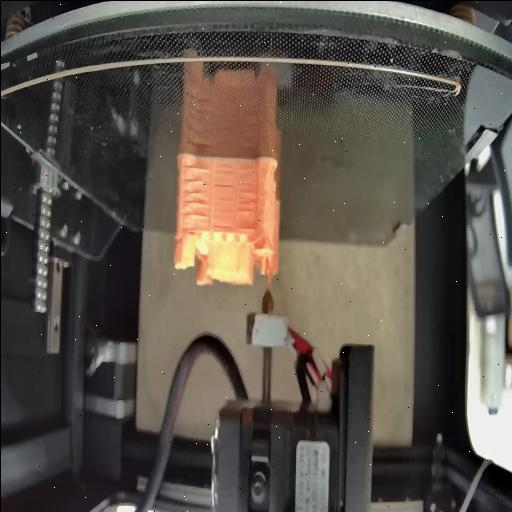cracks: (180, 162, 210, 222), (213, 162, 233, 194), (238, 163, 256, 195), (235, 200, 256, 214), (212, 221, 238, 228), (236, 224, 256, 232)
